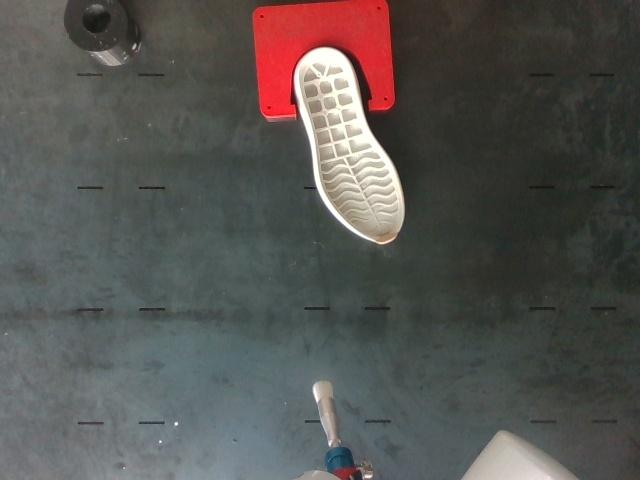shoes: (299, 48, 404, 242)
